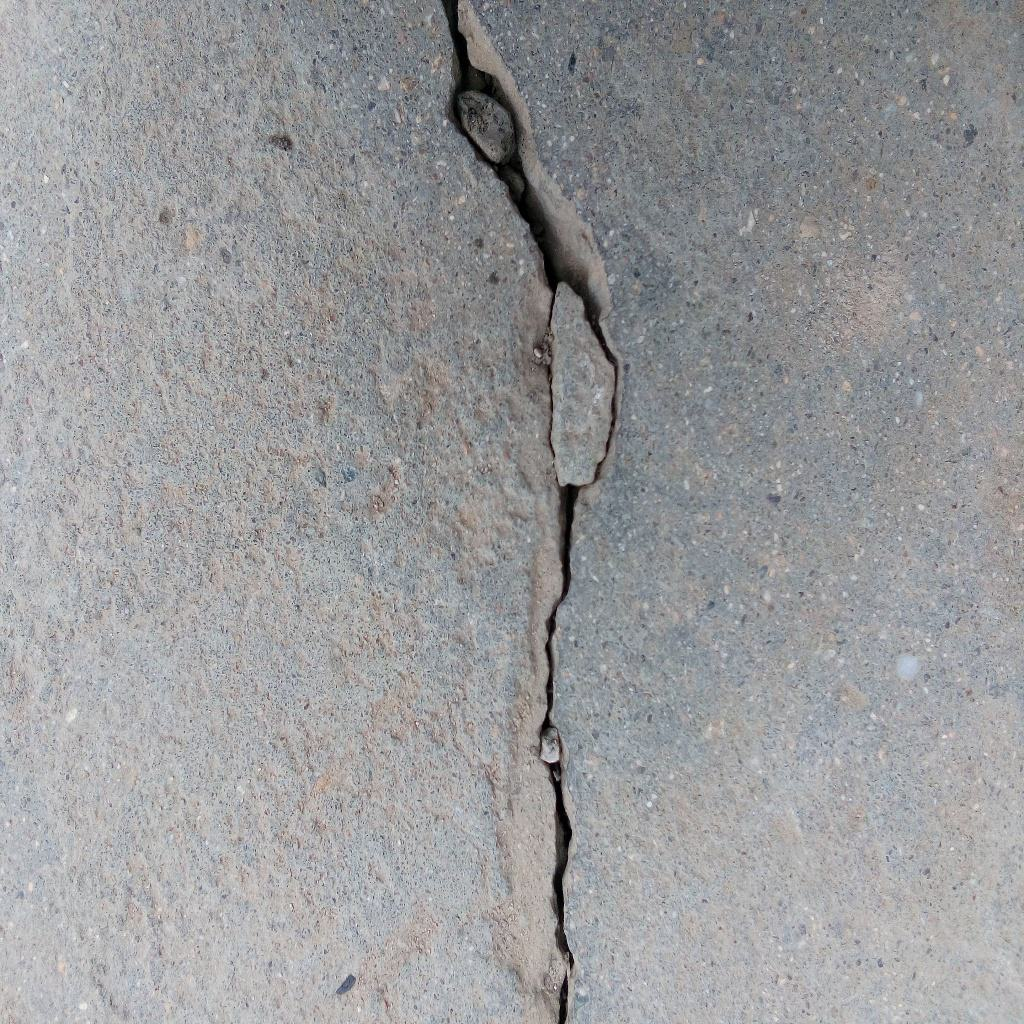Crack: (442, 1, 621, 1024)
